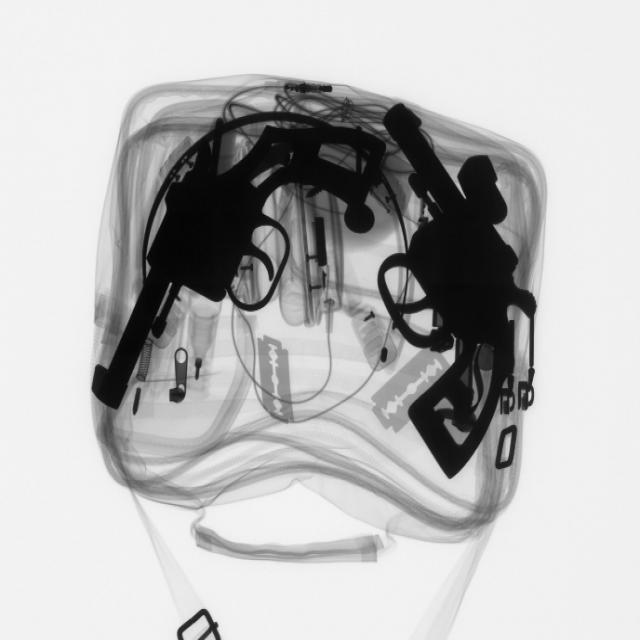BLADE: (368, 346, 448, 436), (247, 330, 304, 432)
GUN: (112, 112, 377, 387), (371, 104, 537, 455)
